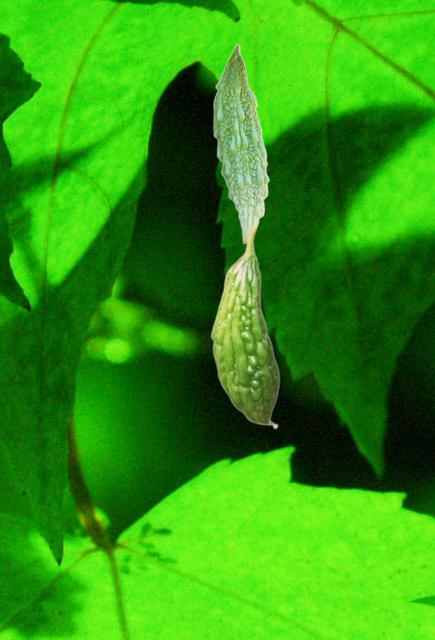ampalaya: (210, 224, 282, 429), (212, 44, 270, 244)
